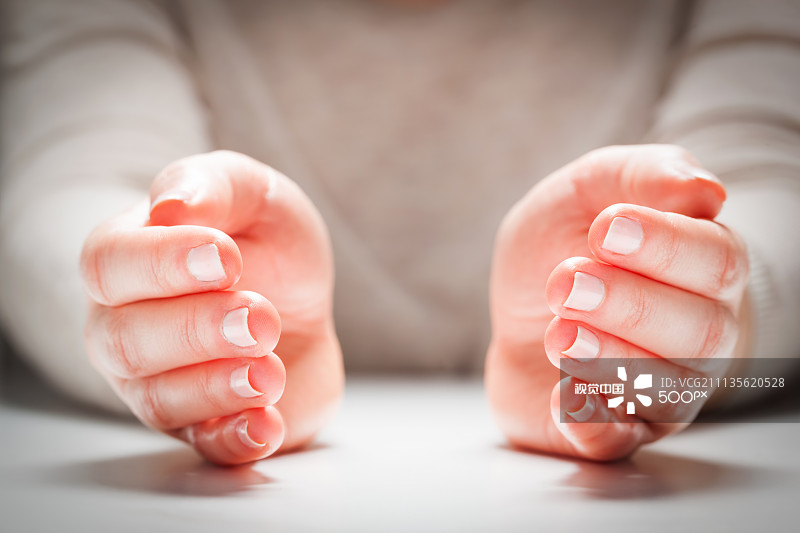no-phone: (458, 118, 763, 490), (55, 132, 375, 478)
